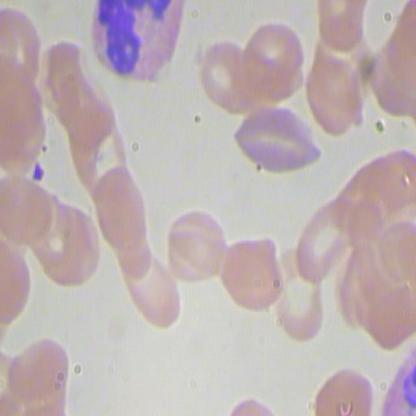Platelets: (29, 160, 48, 183)
RBC: (227, 104, 324, 179), (298, 43, 363, 139), (265, 244, 328, 341), (66, 104, 131, 194), (93, 164, 156, 251), (164, 208, 229, 283), (198, 37, 263, 112), (242, 18, 307, 93), (120, 253, 184, 328), (1, 171, 61, 247), (223, 236, 284, 309), (5, 335, 72, 400), (1, 2, 46, 89), (363, 145, 415, 218), (363, 276, 415, 349), (311, 360, 375, 415)
WBC: (88, 1, 183, 90)
